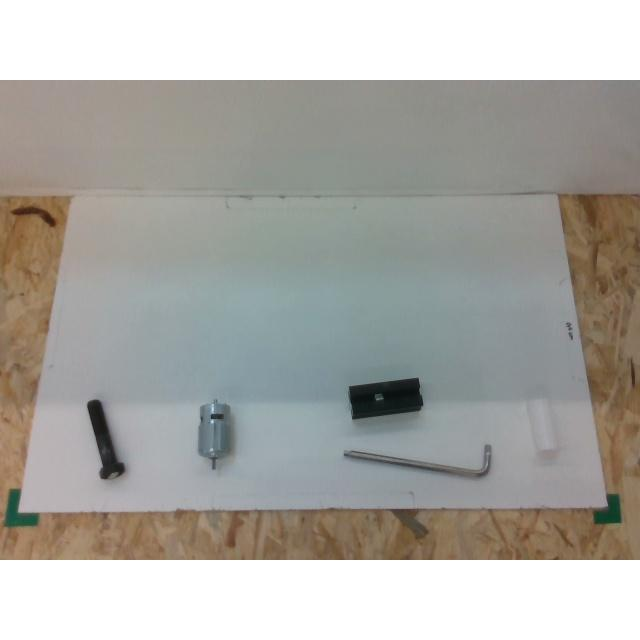AllenKey: (343, 444, 491, 476)
M20_100: (87, 399, 125, 477)
Motor2: (197, 400, 231, 468)
S40_40_B: (349, 377, 423, 417)
Spacer: (524, 398, 560, 454)
